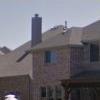Chimney: (25, 6, 52, 54)
